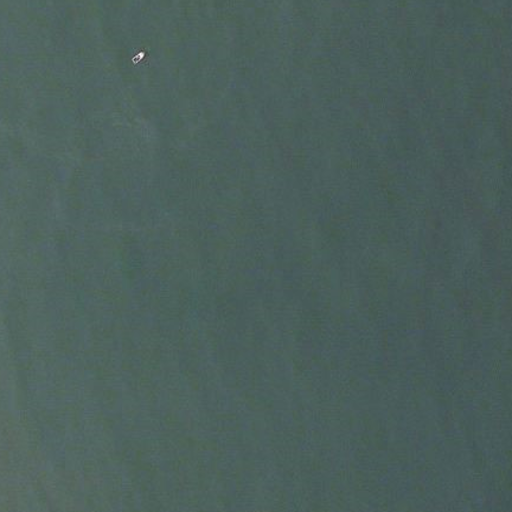ship: (129, 48, 149, 66)
